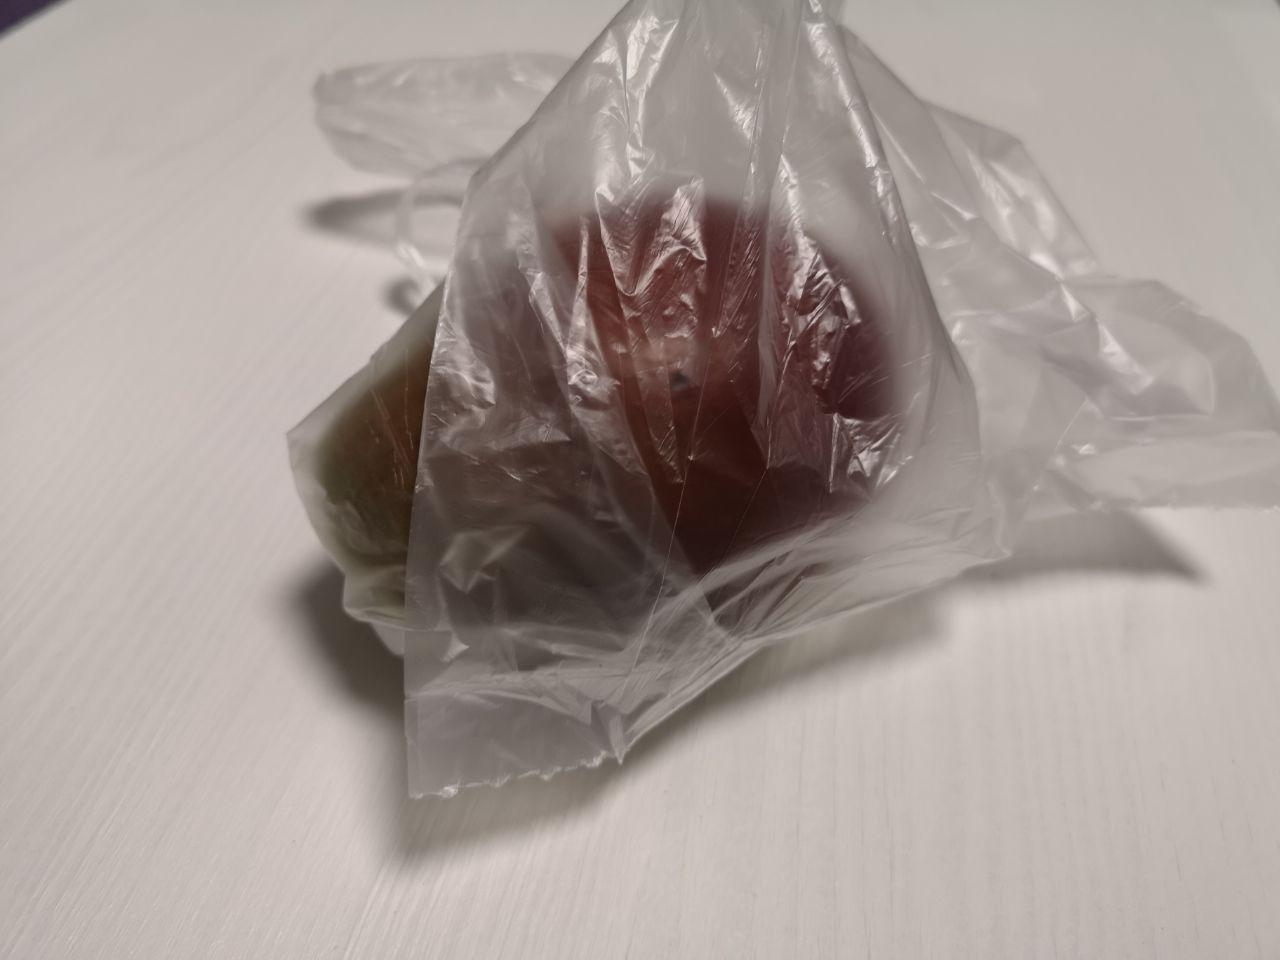mango: (222, 77, 996, 802)
